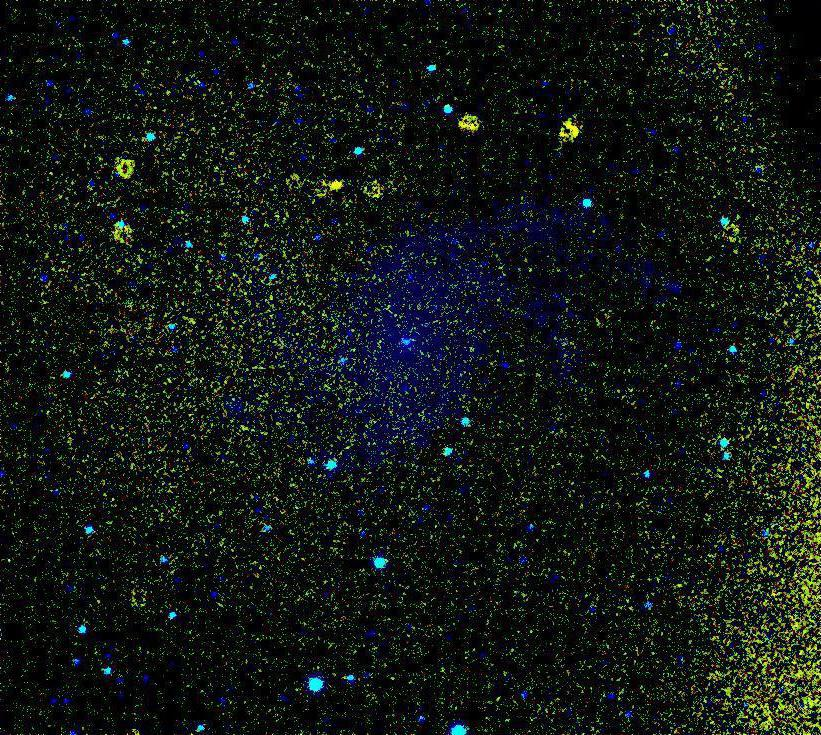star: (322, 170, 352, 200)
